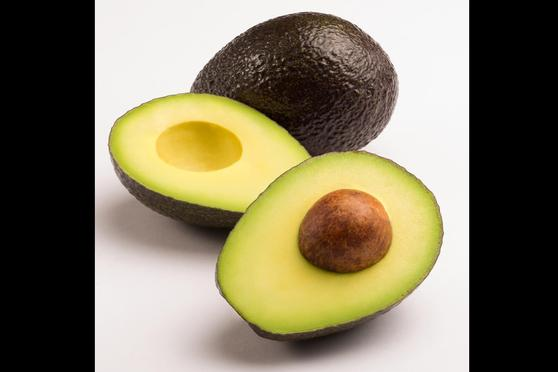avocado: (193, 10, 406, 156)
